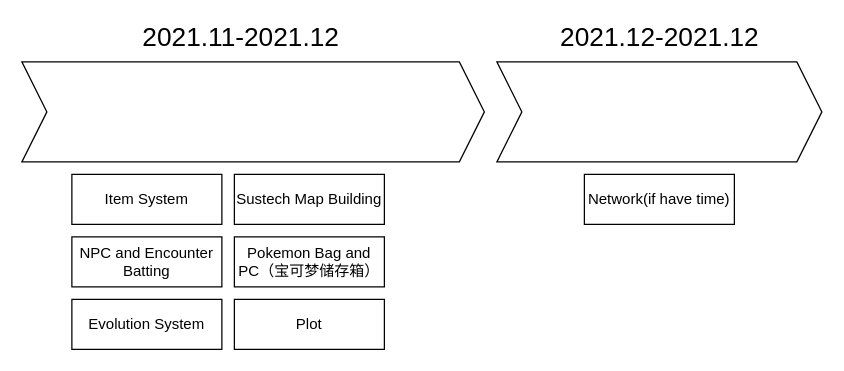
This 844x371 diagram has some shape labels left out. The centre of each missing label's shape, as x and y in pixels:
"Debugging Testing" belongs at pixel 659 111.
"Development" belongs at pixel 252 111.
